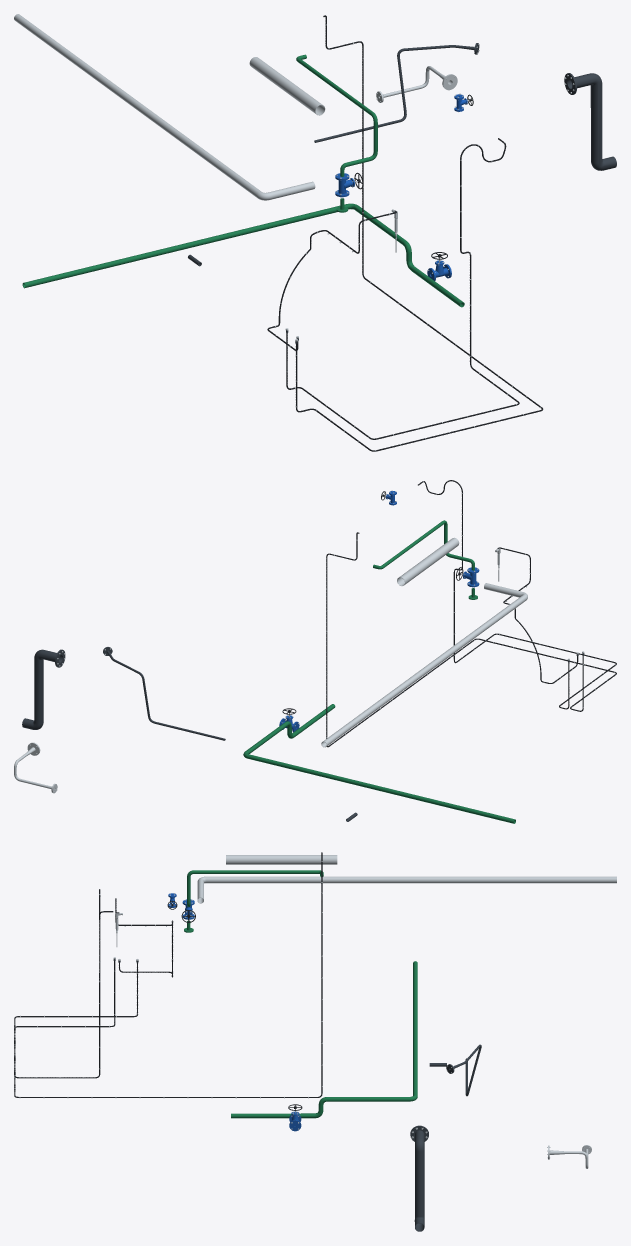
Rendered from s4000-3-HOBazKy2.glb.
3 views of the same model, one above another, from view 1: azimuth 30°, elevation 25°; view 2: azimuth 150°, elevation 25°; view 3: azimuth 270°, elevation 25° (orthographic). The views are drawn at different scales.
Visible parts, largest first — view 1: suction_common / green, safety_vent_1 / steel, bdv_water_drain / dark, mod_direct_drive_cable / black, wiring_pressure_switch_3 / black, steam_delivery / steel, direct_inlet / green, tds_without_fv / dark, fv_to_trap_gap / steel; view 2: suction_common / green, safety_vent_1 / steel, mod_direct_drive_cable / black, bdv_water_drain / dark, wiring_pressure_switch_3 / black, steam_delivery / steel, direct_inlet / green, tds_without_fv / dark; view 3: safety_vent_1 / steel, suction_common / green, mod_direct_drive_cable / black, bdv_water_drain / dark, steam_delivery / steel, wiring_pressure_switch_3 / black, direct_inlet / green.
Boxes of the visible parts, <box> form: suction_common / green: <box>22,203,464,307</box>; safety_vent_1 / steel: <box>14,14,315,200</box>; bdv_water_drain / dark: <box>564,73,616,170</box>; mod_direct_drive_cable / black: <box>295,15,543,451</box>; wiring_pressure_switch_3 / black: <box>286,138,519,439</box>; steam_delivery / steel: <box>249,57,325,115</box>; direct_inlet / green: <box>296,54,377,176</box>; tds_without_fv / dark: <box>314,43,479,142</box>; fv_to_trap_gap / steel: <box>376,66,457,102</box>; suction_common / green: <box>243,704,515,823</box>; safety_vent_1 / steel: <box>321,583,527,747</box>; mod_direct_drive_cable / black: <box>326,532,616,747</box>; bdv_water_drain / dark: <box>22,649,65,729</box>; wiring_pressure_switch_3 / black: <box>418,480,616,709</box>; steam_delivery / steel: <box>397,537,459,585</box>; direct_inlet / green: <box>373,520,474,570</box>; tds_without_fv / dark: <box>103,647,225,740</box>; safety_vent_1 / steel: <box>197,876,616,903</box>; suction_common / green: <box>231,961,417,1118</box>; mod_direct_drive_cable / black: <box>14,852,322,1097</box>; bdv_water_drain / dark: <box>410,1125,428,1231</box>; steam_delivery / steel: <box>226,855,337,864</box>; wiring_pressure_switch_3 / black: <box>14,889,137,1078</box>; direct_inlet / green: <box>187,870,323,906</box>.
Bounding box in the file's own units: 6.75 × 3.07 × 7.03.
